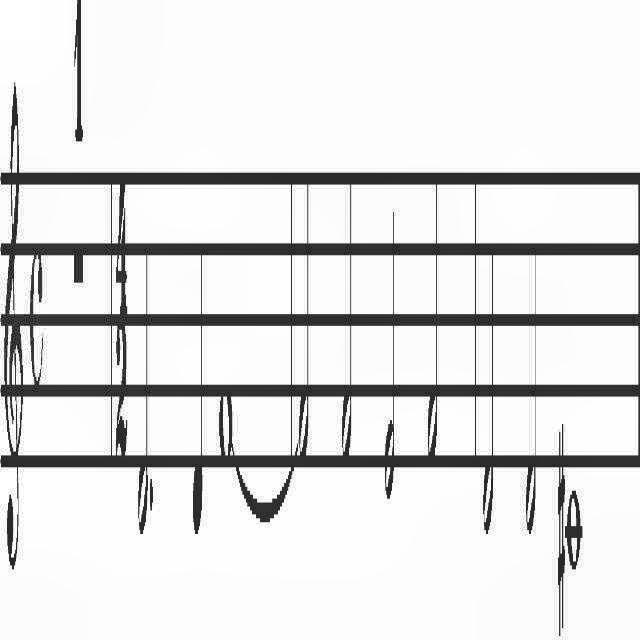Bass-clef: (1, 78, 22, 580)
Diez: (558, 420, 566, 640)
Full-note: (567, 483, 581, 583), (218, 384, 234, 462)
Half-note: (137, 230, 149, 540), (342, 170, 354, 474), (298, 163, 310, 465), (384, 203, 396, 505), (482, 235, 494, 537), (526, 239, 538, 541), (426, 173, 438, 472)
Quarter-note: (192, 236, 204, 546)
